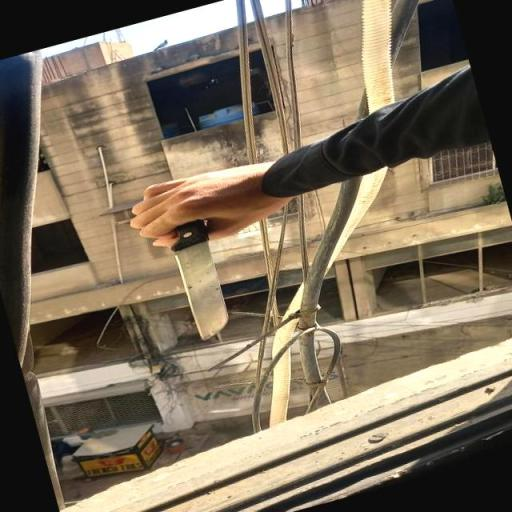knife: (143, 178, 254, 348)
